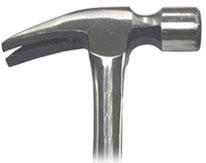hammer: (0, 4, 202, 162)
